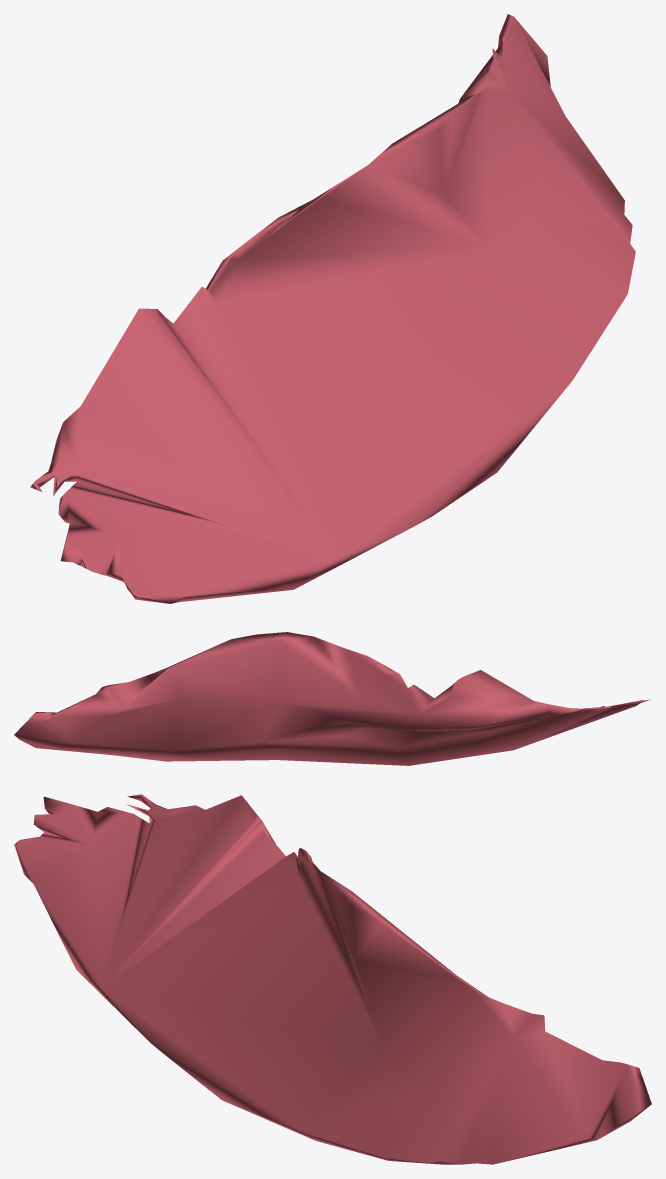
3 views of the same model, one above another, from view 1: azimuth 30°, elevation 25°; view 2: azimuth 150°, elevation 25°; view 3: azimuth 270°, elevation 25° (orthographic). The views are drawn at different scales.
Parts seen in each view (by area): view 1: 右侧皱眉肌; view 2: 右侧皱眉肌; view 3: 右侧皱眉肌.
Part boxes in pixels (<box>): 右侧皱眉肌: <box>30,14,635,603</box>; 右侧皱眉肌: <box>14,632,650,765</box>; 右侧皱眉肌: <box>14,794,651,1164</box>.
Bounding box in the file's own units: 0.0334 × 0.0104 × 0.028.
